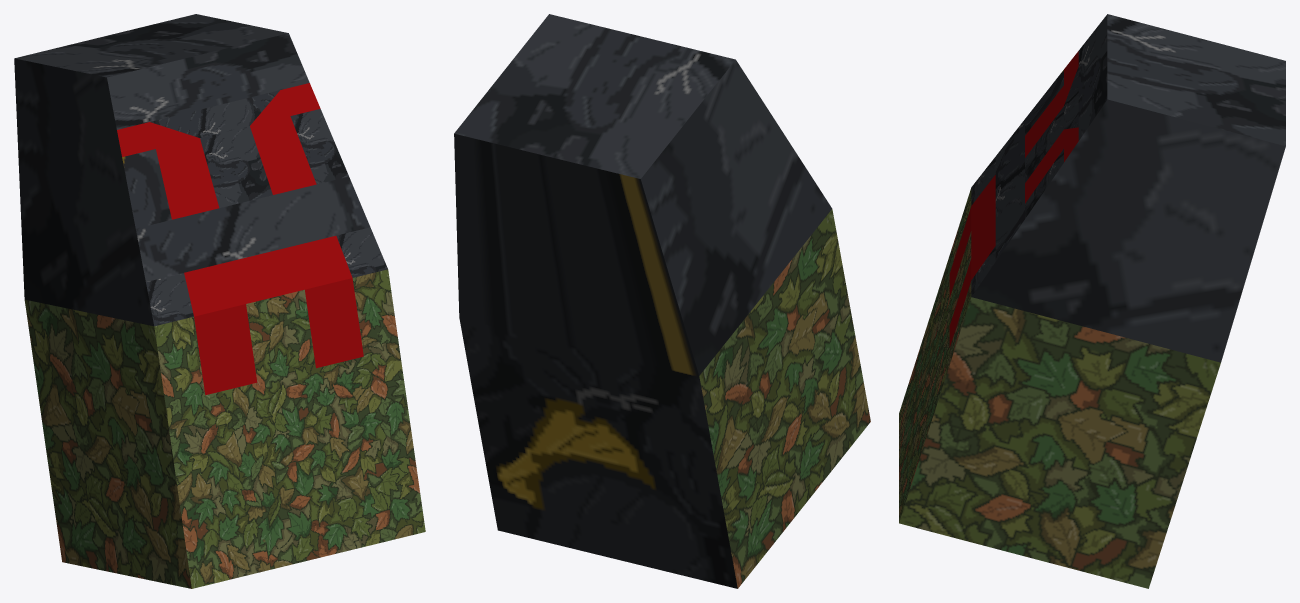
The model's file is Guardian.glb.
3 views of the same model, side by side, from view 1: azimuth 30°, elevation 25°; view 2: azimuth 150°, elevation 25°; view 3: azimuth 270°, elevation 25° (orthographic). The views are drawn at different scales.
Parts seen in each view (by area): view 1: Guardian; view 2: Guardian; view 3: Guardian.
Part boxes in pixels (box(x1,y1,x2,y2)): Guardian: box(14, 14, 425, 588); Guardian: box(454, 14, 870, 588); Guardian: box(899, 14, 1285, 588).
Bounding box in the file's own units: 0.9383 × 1.9 × 1.4.
3 materials, 2 textured.
